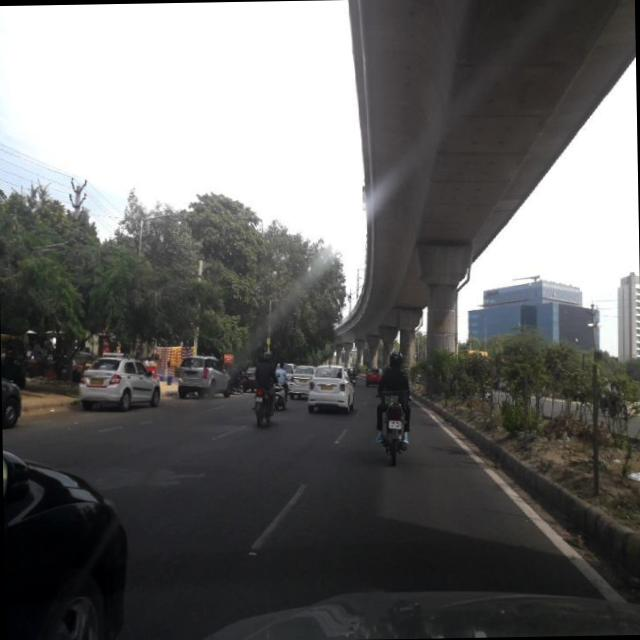crack: (130, 452, 256, 580)
